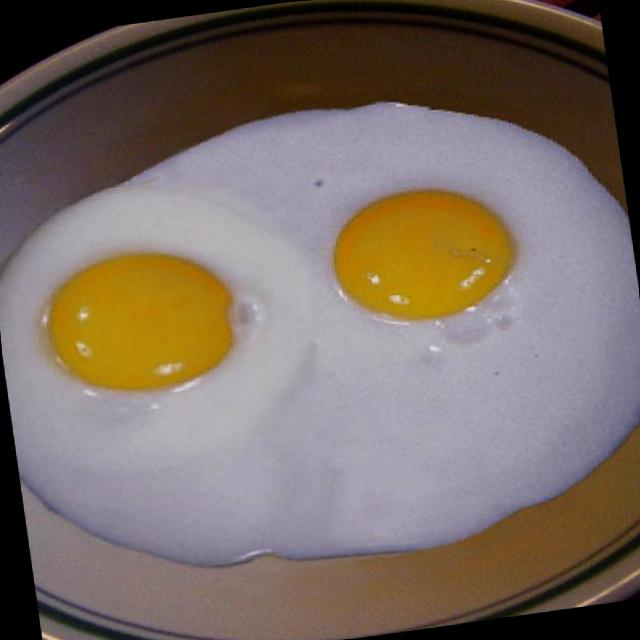Egg: (284, 52, 640, 553), (0, 100, 353, 603)
